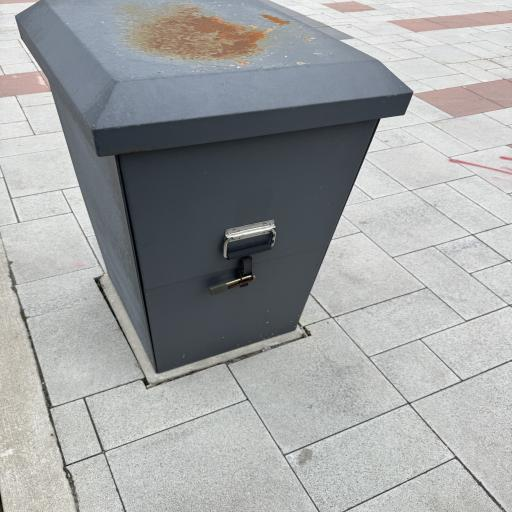Electrical Box: (16, 0, 412, 373)
